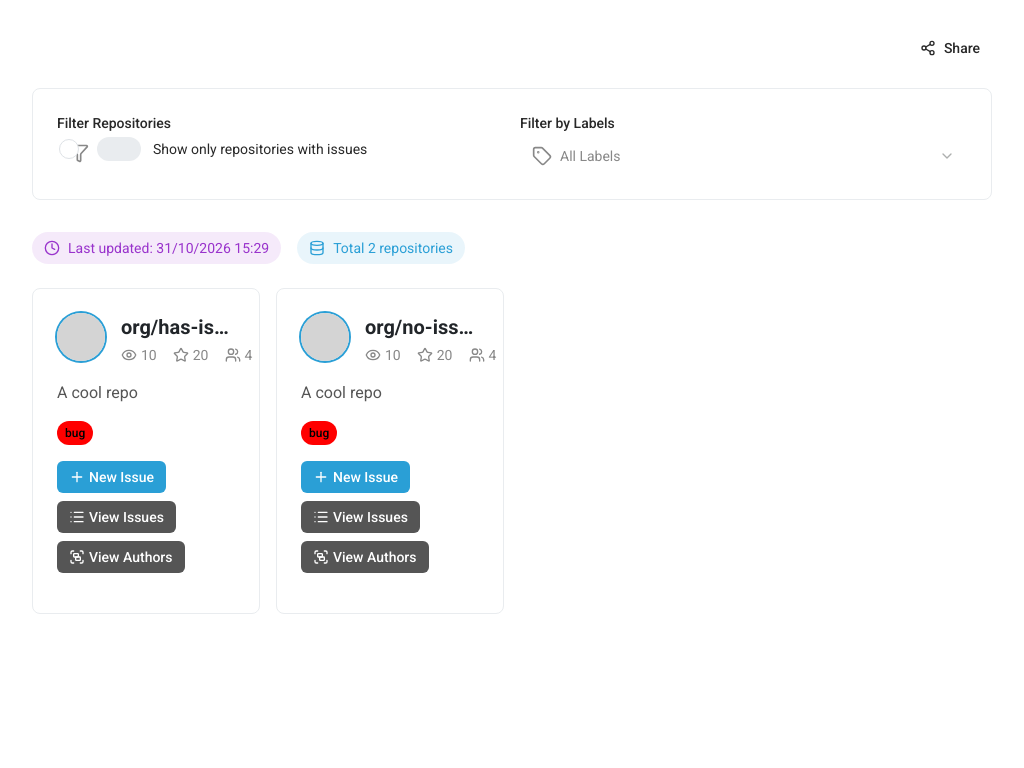
Test case: RepositoriesPage › filters out repositories without issues when the toggle is enabled
Expected: the link "org/has-issues" is shown, [121,315,235,339]
Expected: the link "org/no-issues" is shown, [365,315,479,339]
Click the checkbox at (212, 149), box [57,137,367,161]
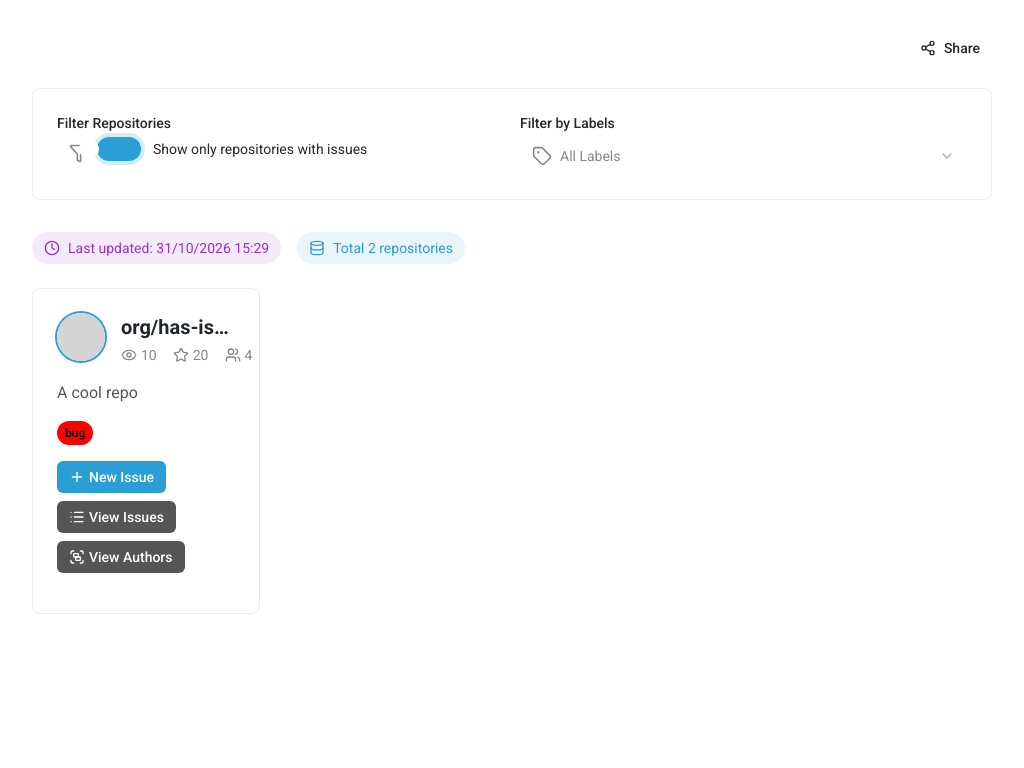
Expected: the link "org/has-issues" is shown, [121,315,235,339]
Result: the link "org/no-issues" is gone
